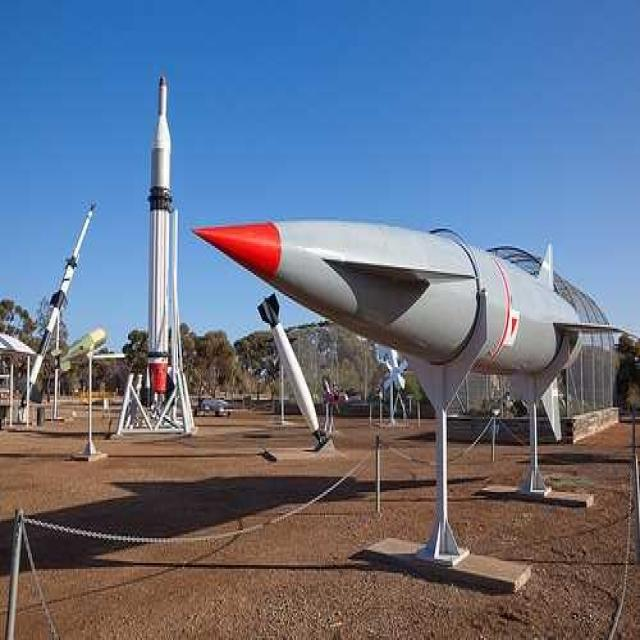missile: (192, 216, 605, 437), (18, 203, 95, 401), (254, 293, 328, 447), (141, 69, 176, 386)
